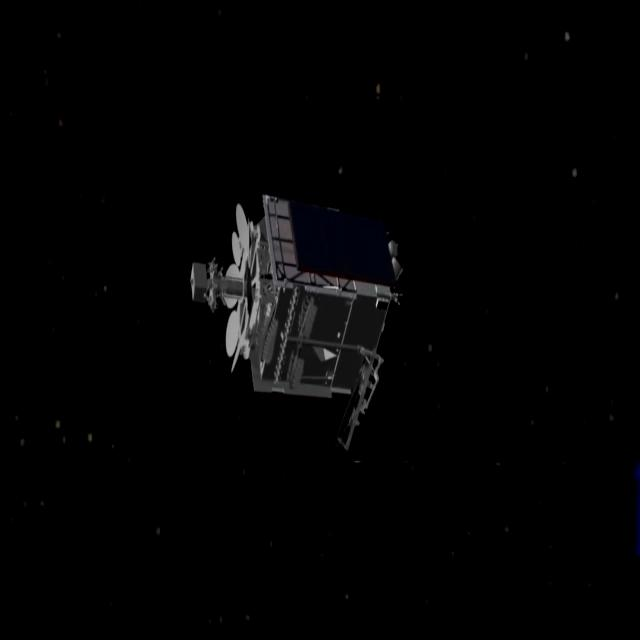satellite: (183, 181, 399, 470)
